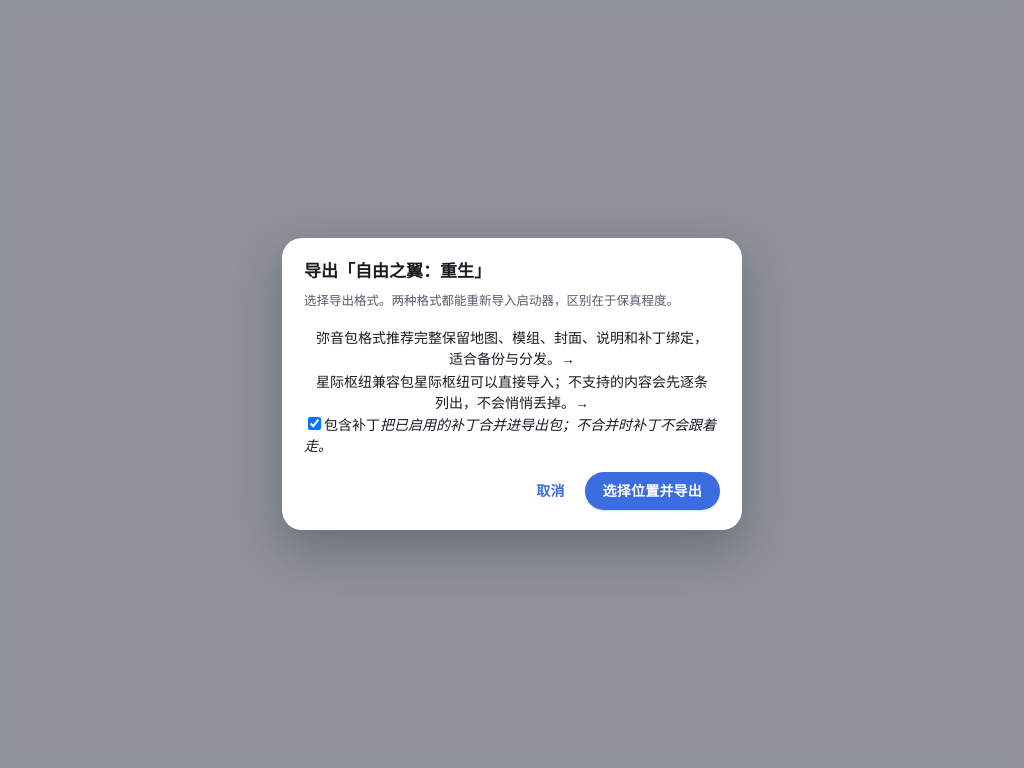
Test: 导出向导 › 预检说不支持时，导出按钮被拦下
Click the button with class "export-format" that starts with "星际枢纽兼容包".
click(512, 392)  # box x1=304 y1=370 x2=720 y2=414
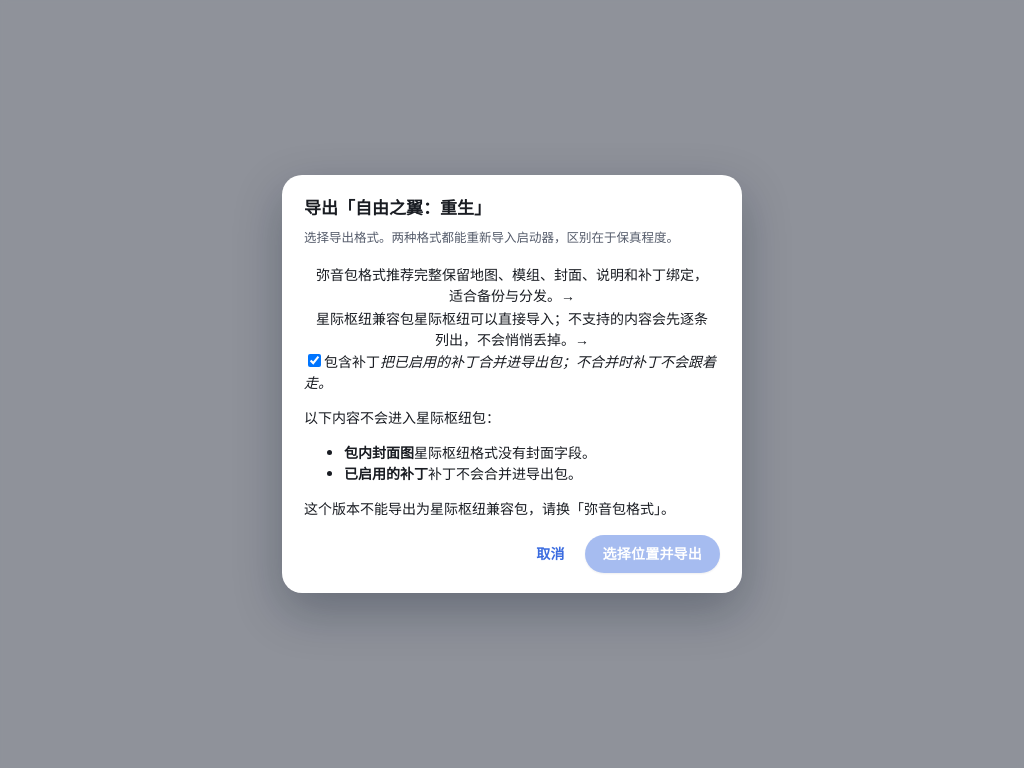
Expected: the button "选择位置并导出" is disabled, x1=585 y1=535 x2=720 y2=573
Expected: the text "不能导出为星际枢纽兼容包" is shown, x1=304 y1=499 x2=675 y2=518
